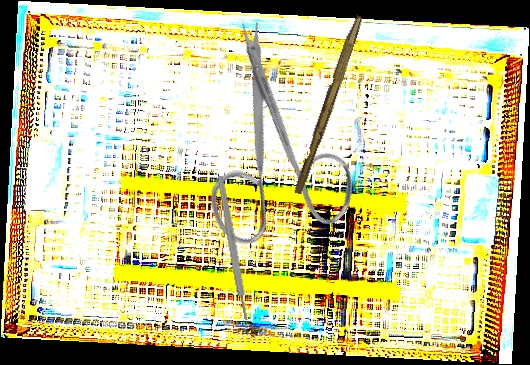Iris Scissors: (128, 12, 403, 284)
Scalpel Handle: (292, 13, 364, 196), (216, 175, 250, 321)
